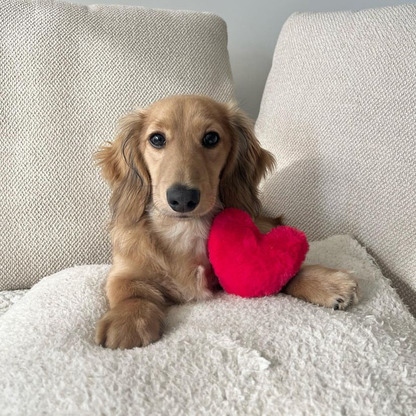dachshund: (64, 83, 380, 362)
